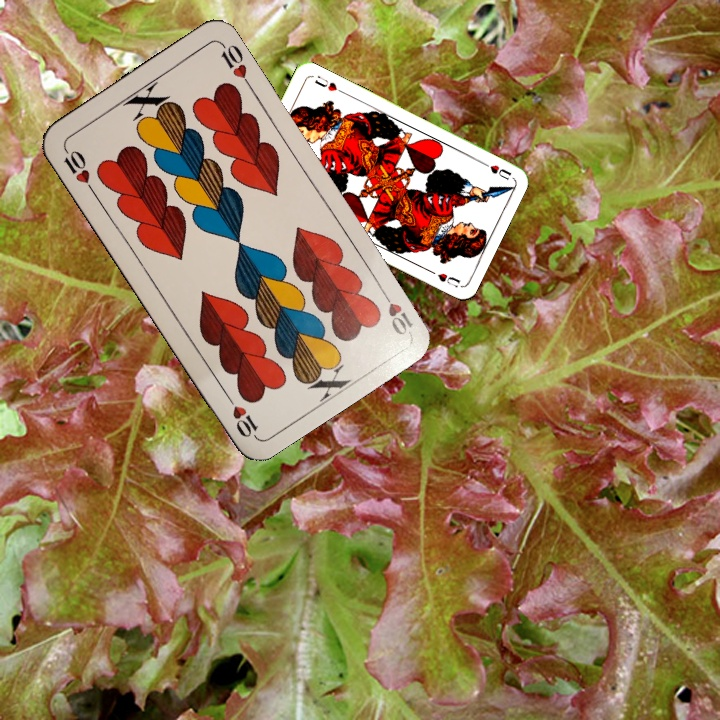H10: (375, 283, 416, 338), (59, 143, 98, 196)
HU: (477, 157, 514, 183)
